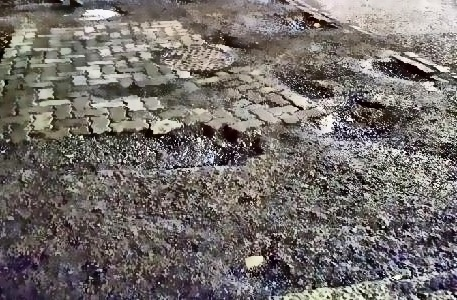pothole: (69, 119, 263, 171), (312, 98, 400, 141), (371, 58, 436, 82), (279, 7, 338, 33), (79, 3, 126, 22), (290, 79, 332, 99)
